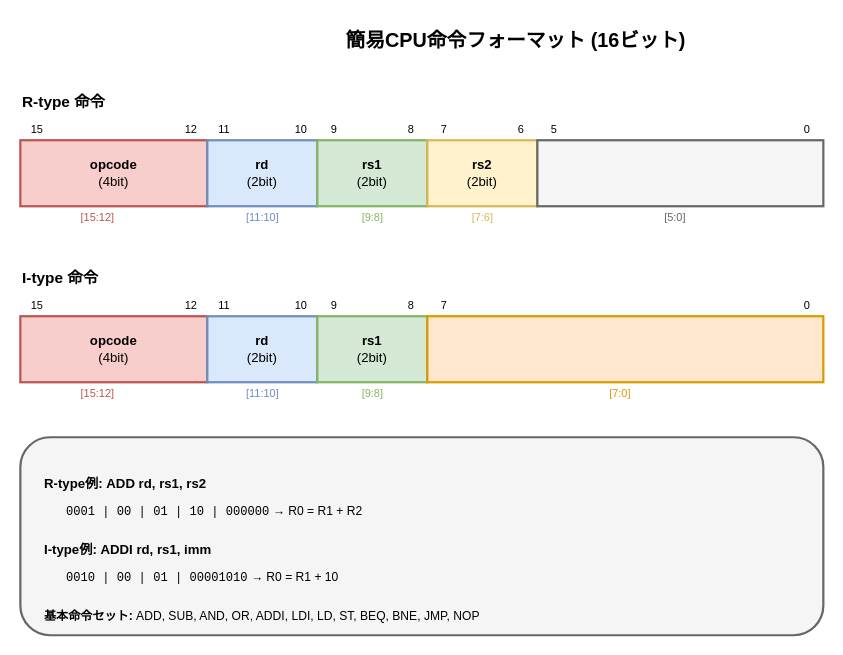
The diagram is 843 pixels wide and 655 high, and some of its shapes have lost their labels. The shapes that lost their labels are listed below. From the top down, each one's box as (x1, y1, x2, y2) in pixels, then its label:
(536, 139, 824, 207): reserved (6bit)
(426, 315, 824, 383): imm (8bit)
(19, 436, 824, 636): 命令例
